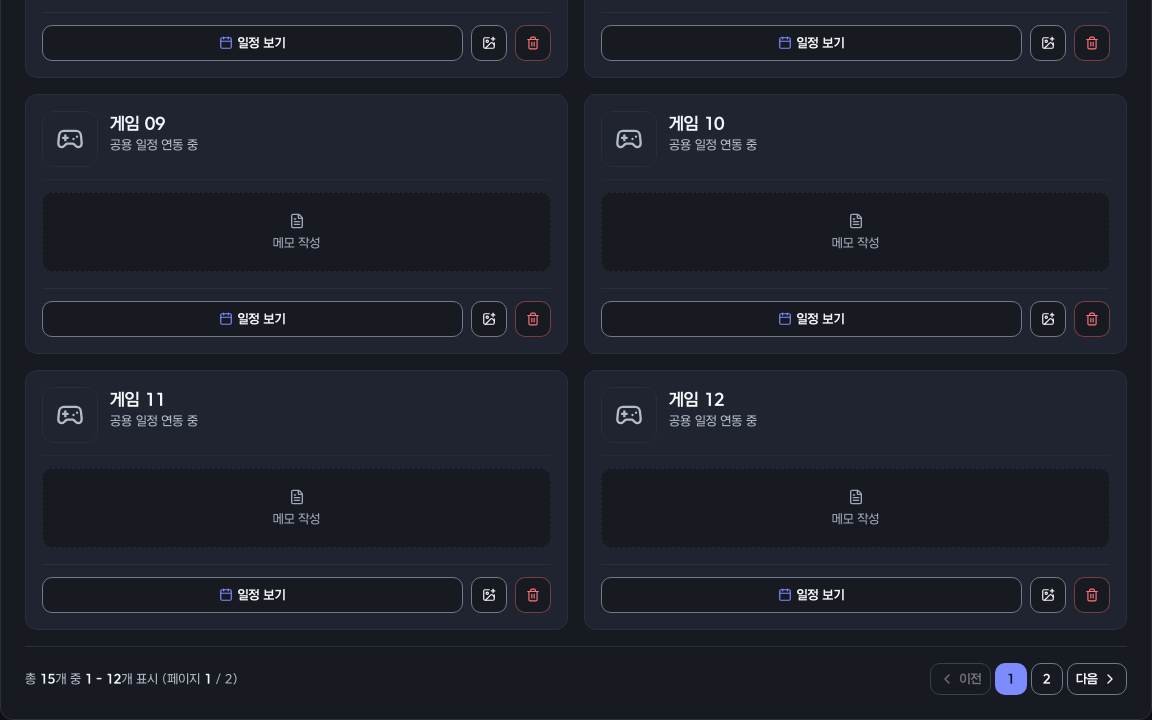
Test case: GamesPage › paginates games with 12 items per page and renders pagination bar
(page scrolled)
Expected: the element with test id "pagination-info" reads "총 15개 중 1 - 12개 표시 (페이지 1 / 2)", [25,671,238,687]
Click the button "2". click: (1047, 679)
box: [1031,663,1063,695]
(page scrolled)
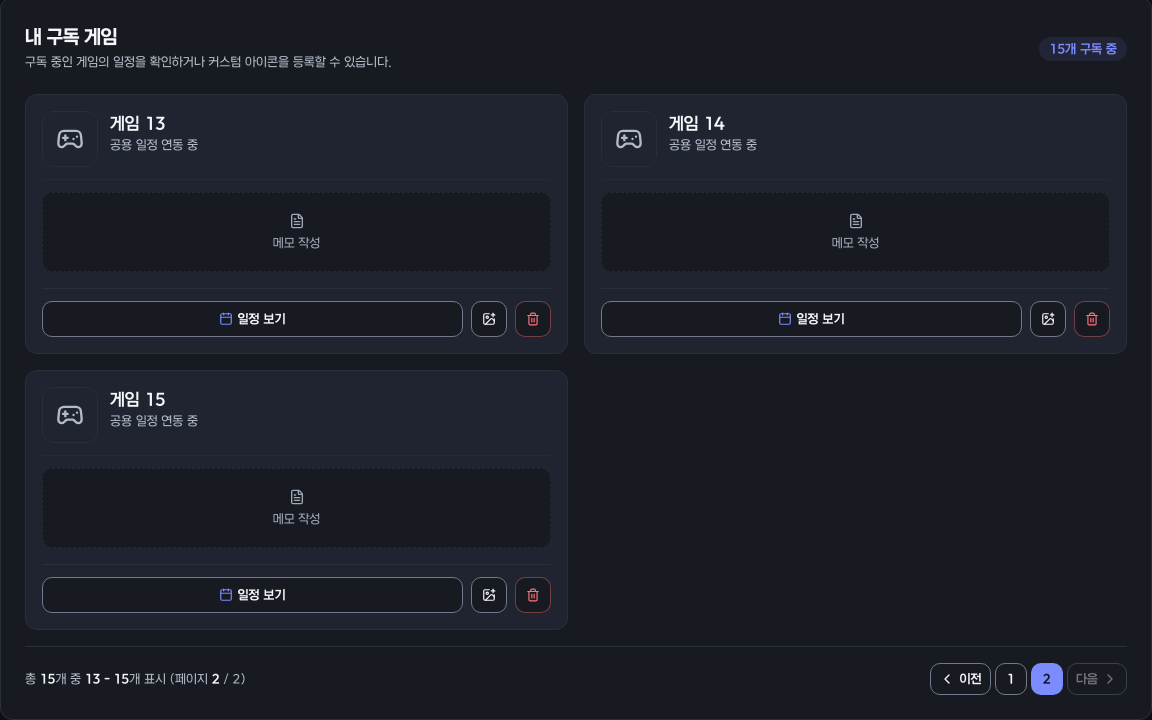
Expected: the element with test id "pagination-info" reads "총 15개 중 13 - 15개 표시 (페이지 2 / 2)", [25,671,246,687]
